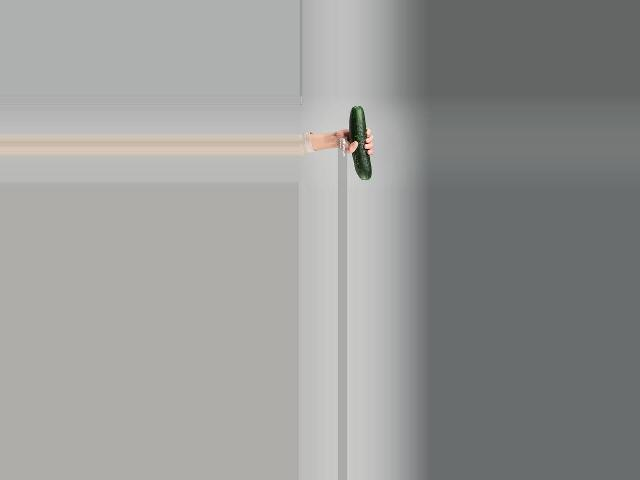cucumber: (349, 107, 371, 180)
